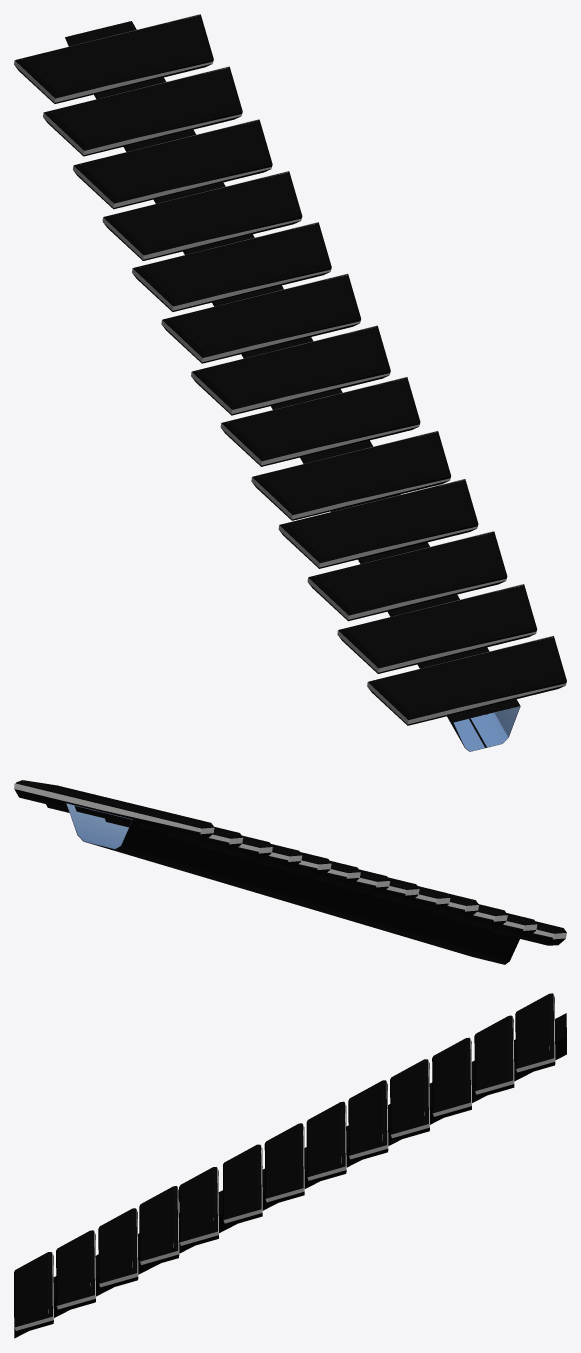
Rendered from Rooms_Paradise_PlatformStairs03_Art.fbx.
3 views of the same model, one above another, from view 1: azimuth 30°, elevation 25°; view 2: azimuth 150°, elevation 25°; view 3: azimuth 270°, elevation 25° (orthographic). The views are drawn at different scales.
Visible parts, largest first — view 1: Rooms_Paradise_PlatformStairs03_Outliner, Rooms_Paradise_PlatformStairs03_Shadows, Rooms_Paradise_PlatformStairs03_Art; view 2: Rooms_Paradise_PlatformStairs03_Outliner, Rooms_Paradise_PlatformStairs03_Shadows, Rooms_Paradise_PlatformStairs03_Art; view 3: Rooms_Paradise_PlatformStairs03_Outliner, Rooms_Paradise_PlatformStairs03_Shadows.
Part boxes in pixels (<box>): Rooms_Paradise_PlatformStairs03_Outliner: <box>15,14,566,751</box>; Rooms_Paradise_PlatformStairs03_Shadows: <box>14,14,566,724</box>; Rooms_Paradise_PlatformStairs03_Art: <box>453,706,519,751</box>; Rooms_Paradise_PlatformStairs03_Outliner: <box>14,780,566,964</box>; Rooms_Paradise_PlatformStairs03_Shadows: <box>14,783,566,939</box>; Rooms_Paradise_PlatformStairs03_Art: <box>66,803,132,849</box>; Rooms_Paradise_PlatformStairs03_Outliner: <box>14,993,566,1338</box>; Rooms_Paradise_PlatformStairs03_Shadows: <box>14,993,555,1330</box>.
Size of the model in its own units: 235 by 521 by 845.
